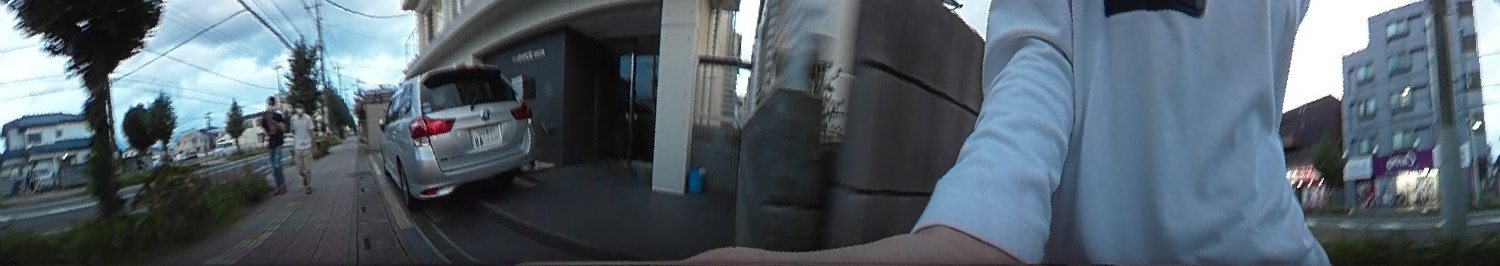person: (253, 93, 291, 196), (289, 100, 320, 190)
